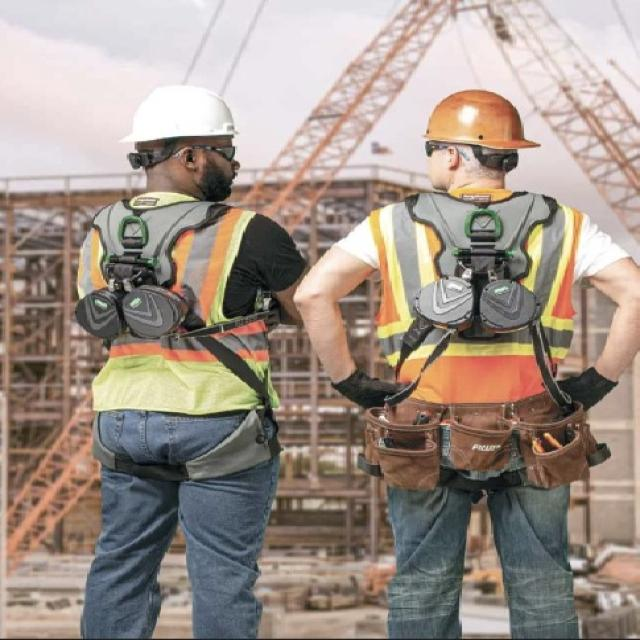gloves: (329, 360, 430, 415), (547, 353, 640, 412)
goggles: (414, 134, 494, 168), (192, 137, 274, 166)
helmet: (398, 77, 569, 148), (114, 79, 268, 144)
person: (299, 61, 640, 638), (57, 60, 296, 640)
vest: (364, 184, 617, 416), (70, 185, 284, 432)
